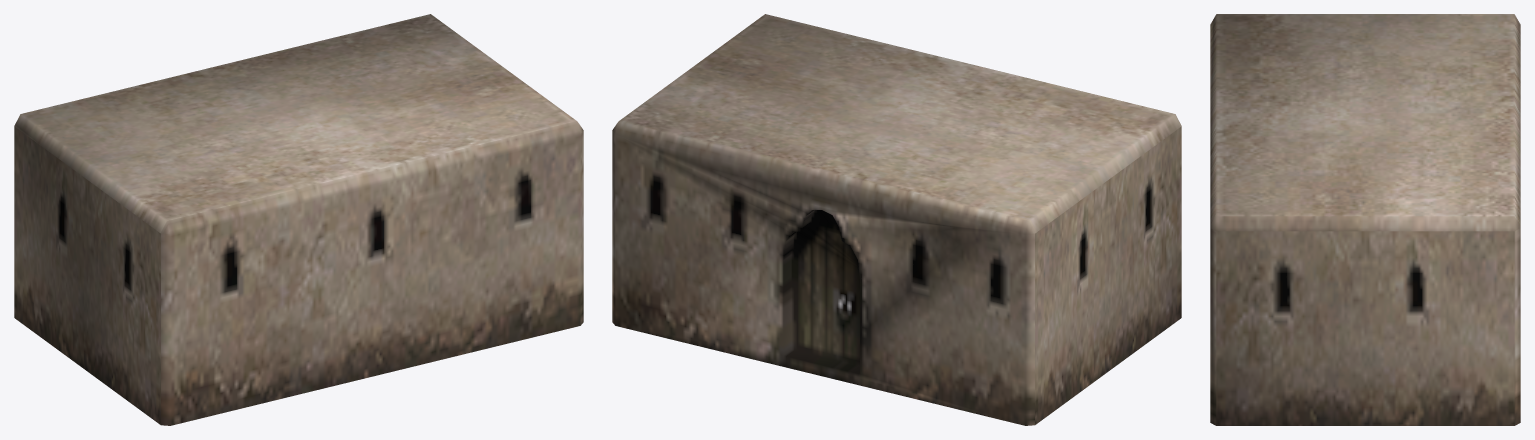
The model's file is stbuho43.dae.
The picture shows the model from 3 angles, left to right: view 1: azimuth 30°, elevation 25°; view 2: azimuth 150°, elevation 25°; view 3: azimuth 270°, elevation 25°; orthographic projection.
Visible parts, largest first — view 1: plain; view 2: plain; view 3: plain.
Boxes of the visible parts, bbox=[...] form: plain: bbox=[14, 14, 583, 425]; plain: bbox=[612, 14, 1181, 425]; plain: bbox=[1210, 14, 1520, 425].
Bounding box in the file's own units: 2.5 × 1.57 × 1.14.
1 material, 1 textured.
